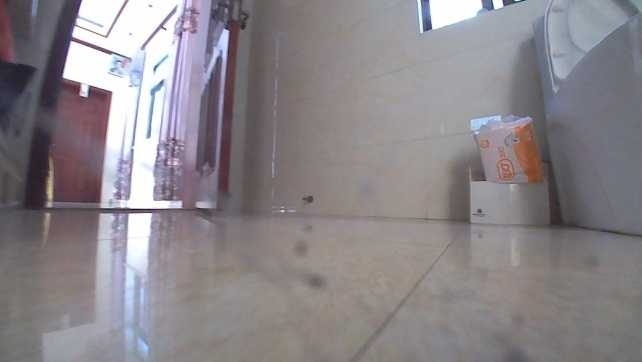door_anno: (181, 0, 256, 214)
door_sill: (42, 202, 190, 212)
toilet: (528, 0, 641, 238)
